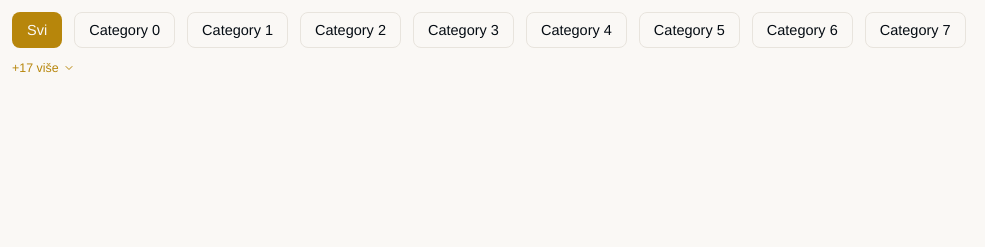
Test case: BlogCategoryFilter › shows the overflow controls in the page language
The image size is (985, 247).
Click the button "+17 više".
click(43, 68)  # box left=12, top=60, right=75, bottom=76
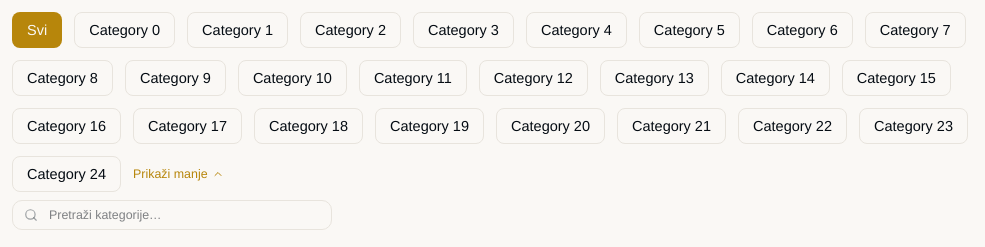
Now the button "Prikaži manje" is shown, box left=133, top=166, right=224, bottom=182
Now the field with placeholder "Pretraži kategorije…" is shown, box left=12, top=200, right=332, bottom=230
